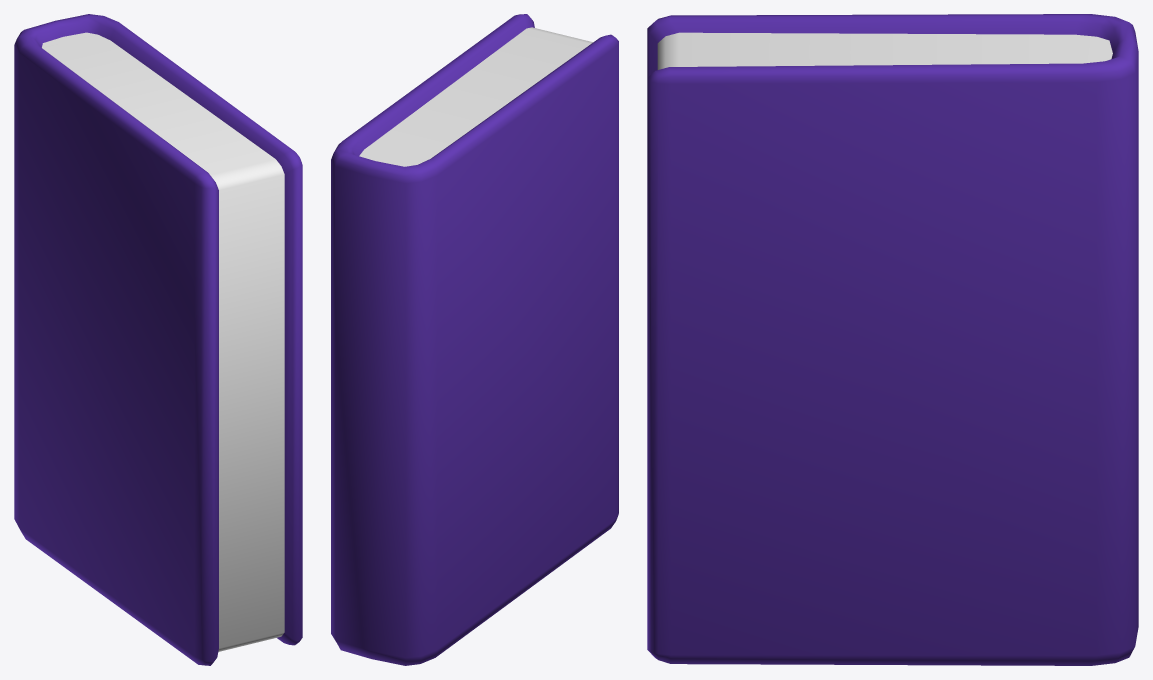
File: Book08.fbx
3 renders of one model, left to right at view 1: azimuth 30°, elevation 25°; view 2: azimuth 150°, elevation 25°; view 3: azimuth 270°, elevation 25°, orthographic. The views are drawn at different scales.
Parts seen in each view (by area): view 1: Book08; view 2: Book08; view 3: Book08.
Boxes of the visible parts, x1,y1,x2,y2 form: Book08: [14, 14, 302, 665]; Book08: [331, 14, 618, 665]; Book08: [647, 14, 1138, 665].
Bounding box in the file's own units: 0.0443 × 0.1506 × 0.2031.
